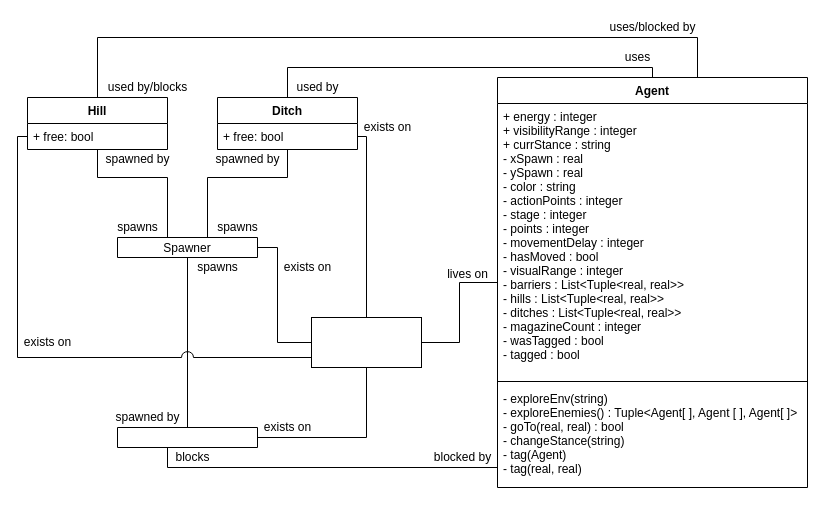
Image size: 825x507. Some labels were removed from this diagram. Each missing label, with the centre of its shape:
"Barrier" belongs at (x=187, y=437).
"«Layer» Battleground" belongs at (x=366, y=342).
